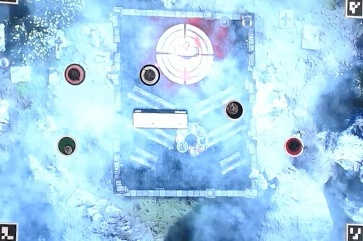black: (221, 100, 244, 122)
green: (53, 135, 77, 158)
pink_green: (64, 63, 86, 86)
red: (281, 137, 304, 160)
white: (137, 64, 161, 87)
